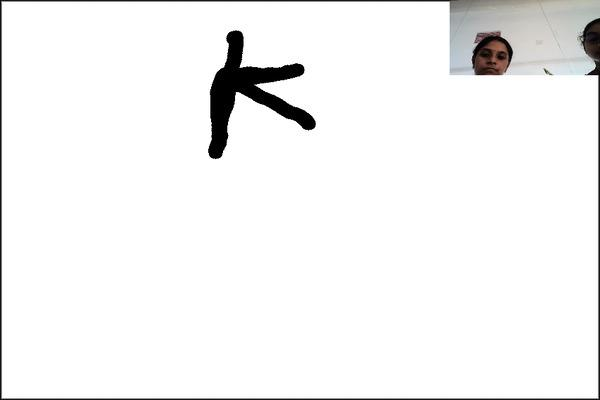K: (201, 18, 325, 168)
